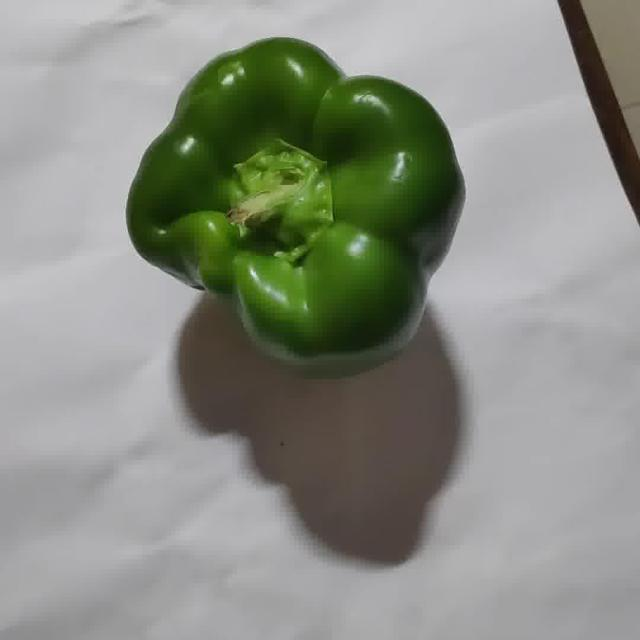Bell Pepper: (127, 38, 463, 365)
